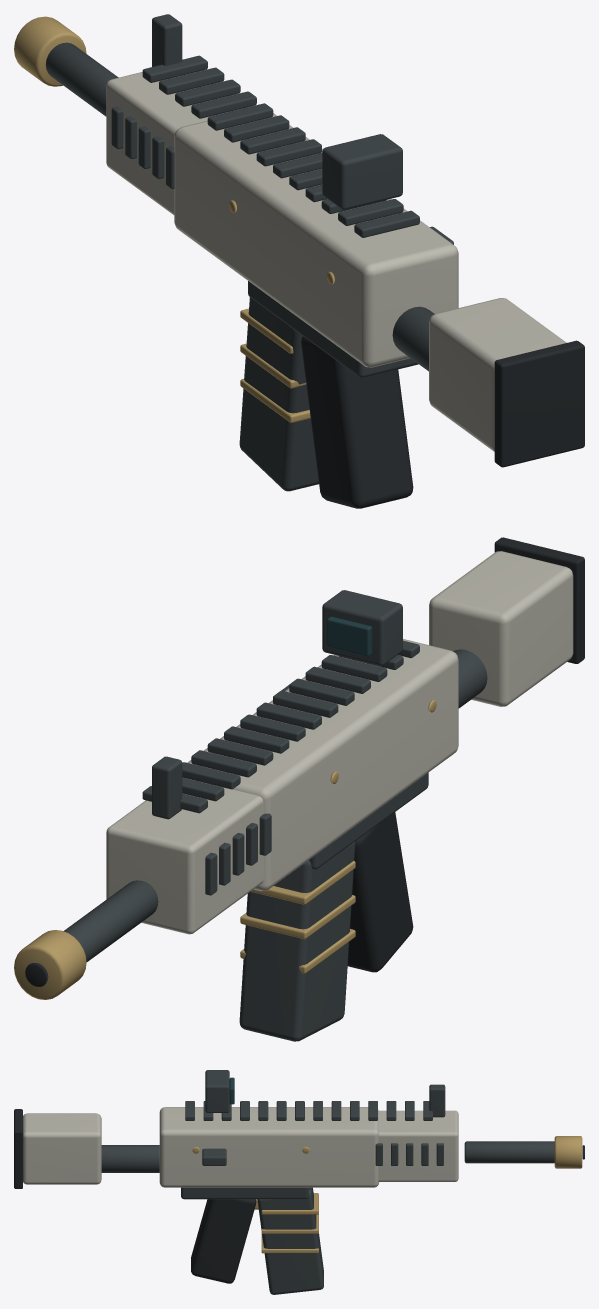
Rendered from Weapon_rifle.glb.
3 renders of one model, top to bottom at view 1: azimuth 30°, elevation 25°; view 2: azimuth 150°, elevation 25°; view 3: azimuth 270°, elevation 25°, orthographic. The views are drawn at different scales.
Parts seen in each view (by area): view 1: Weapon_rifle, ReloadMagazine; view 2: Weapon_rifle, ReloadMagazine; view 3: Weapon_rifle, ReloadMagazine, ChargingHandle.
Boxes of the visible parts, <box> form: Weapon_rifle: <box>14,14,584,508</box>; ReloadMagazine: <box>239,297,318,491</box>; Weapon_rifle: <box>14,537,584,999</box>; ReloadMagazine: <box>239,841,355,1041</box>; Weapon_rifle: <box>14,1070,584,1283</box>; ReloadMagazine: <box>257,1187,323,1294</box>; ChargingHandle: <box>202,1148,226,1165</box>.
Bounding box in the file's own units: 0.1395 × 0.3799 × 0.9355.
